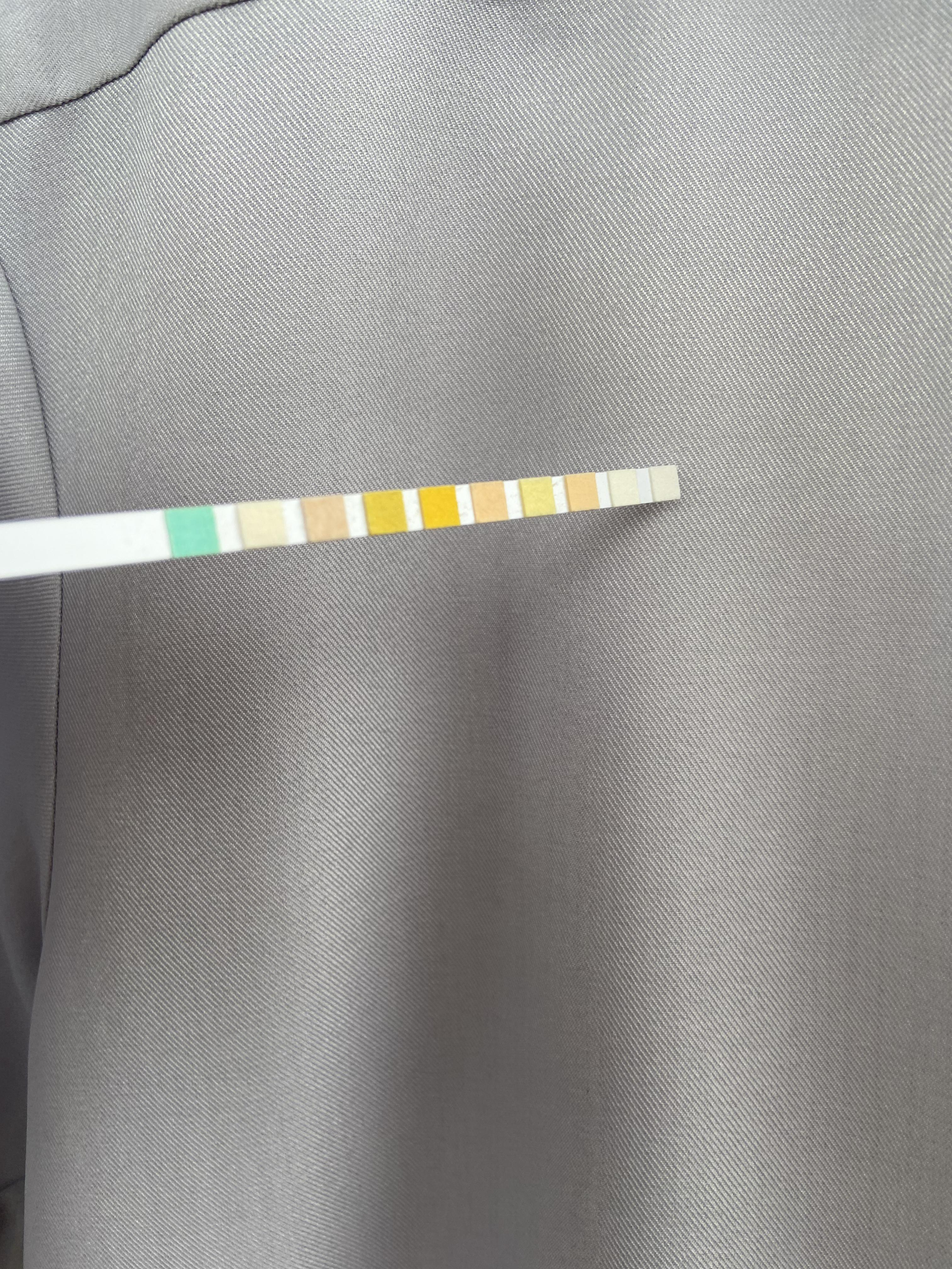Bilirubin: (244, 504, 285, 547)
Blood: (423, 487, 457, 528)
Glucose: (174, 510, 215, 552)
Ketone: (305, 499, 346, 540)
Leukocytes: (653, 467, 676, 499)
Nitrite: (611, 471, 638, 506)
Protein: (525, 477, 552, 516)
SpGravity: (366, 492, 404, 533)
Urobilinogen: (568, 475, 596, 510)
pH: (475, 482, 503, 523)
strip: (0, 465, 681, 579)
